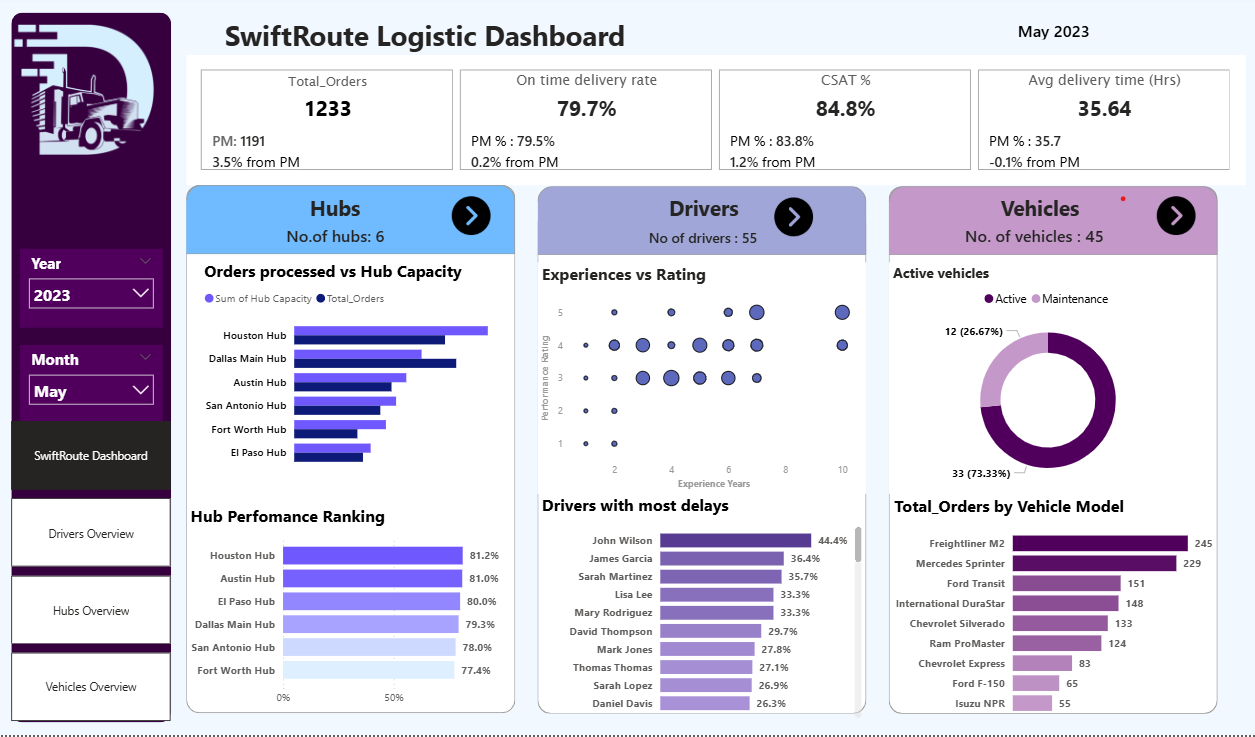

Layout of this report page (visuals, bound fields, positions):
{"tool":"powerbi","page":{"name":"SwiftRoute Dashboard","canvas":[1450,850],"ordinal":0},"visuals":[{"type":"shape","box":[13,14.4,184.8,820],"z":0},{"type":"textbox","box":[215.1,14.4,551.5,60.6],"z":1000},{"type":"slicer","fields":{"Values":["Date table.Year"]},"box":[23.1,287.3,164.6,90.9],"z":2000},{"type":"slicer","fields":{"Values":["Date table.Month"]},"box":[23.1,398.4,164.6,88.1],"z":3000},{"type":"cardVisual","fields":{"Data":["Orders (1).Total_Orders","Orders (1).On time delivery rate","Orders (1).CSAT %","Orders (1).Avg delivery time (Hrs)"]},"box":[215.1,63.5,1224.2,150.1],"z":4000},{"type":"shape","box":[215.1,213.7,380,610],"z":5000},{"type":"shape","box":[215.1,213.7,379.7,80],"z":6000},{"type":"textbox","box":[282.9,219.4,207.9,44.8],"z":7000},{"type":"cardVisual","fields":{"Data":["Hubs.No Of Hubs"]},"box":[257,242.5,261.3,57.7],"z":8000},{"type":"clusteredBarChart","title":"Orders processed vs Hub Capacity","fields":{"Category":["Hubs.HubName"],"Y":["Sum(Hubs.Hub Capacity)","Orders (1).Total_Orders"]},"box":[231,300.3,349.4,249.7],"z":9000},{"type":"barChart","title":"Hub Perfomance Ranking","fields":{"Category":["Hubs.HubName"],"Y":["Orders (1).On time delivery rate"]},"box":[215.1,583.2,379.7,241.1],"z":10000},{"type":"shape","box":[1026.4,215.1,379.7,609.2],"z":11000},{"type":"shape","box":[620.8,242.5,379.7,581.8],"z":12000},{"type":"shape","box":[1026.4,215.1,379.7,79.4],"z":13000},{"type":"shape","box":[620.8,215.1,379.7,79.4],"z":14000},{"type":"cardVisual","fields":{"Data":["Vehicles.No. of Vehicles"]},"box":[1085.6,242.5,261.3,57.7],"z":15000},{"type":"textbox","box":[708.8,219.4,207.9,44.8],"z":16000},{"type":"textbox","box":[1097.2,219.4,207.9,44.8],"z":17000},{"type":"cardVisual","fields":{"Data":["Drivers.No of drivers"]},"box":[720.4,242.5,183.3,60.6],"z":18000},{"type":"scatterChart","title":"Experiences vs Rating","fields":{"X":["Drivers.Experience Years"],"Y":["Drivers.Performance Rating"],"Size":["Sum(Drivers.Experience Years)1"]},"box":[620.8,303.2,379.7,267.1],"z":19000},{"type":"barChart","title":"Drivers with most delays","fields":{"Category":["Drivers.DriverName"],"Y":["Orders (1).Delayed delivery rate"]},"box":[620.8,570.2,379.7,264.2],"z":20000},{"type":"donutChart","title":"Active vehicles","fields":{"Category":["Vehicles.Vehicle Status"],"Y":["CountNonNull(Vehicles.Vehicle ID)"]},"box":[1026.4,303.2,368.1,267.1],"z":21000},{"type":"barChart","fields":{"Category":["Vehicles.Vehicle Model"],"Y":["Orders (1).Total_Orders"]},"box":[1027.9,571.7,379.7,264.2],"z":22000},{"type":"image","box":[0,0,197.8,219.4],"z":23000},{"type":"cardVisual","fields":{"Data":["Orders (1).Year Month Title"]},"box":[1026.4,5.8,381.1,57.7],"z":24000},{"type":"image","box":[880.6,228.1,72.2,44.8],"z":25000},{"type":"image","box":[508.2,226.6,72.2,44.8],"z":26000},{"type":"image","box":[1322.4,226.6,72.2,44.8],"z":27000},{"type":"pageNavigator","box":[13,486.5,184.8,347.9],"z":28000}]}

Visuals, with their boxes on the page's 1450x850 design canvas (x1, y1, x2, y2). These are canvas units, not pixel positions in the 1255x737 screenshot, which may show the page scaled, cropped or inside an application window:
shape: bbox(13, 14, 198, 834)
textbox: bbox(215, 14, 767, 75)
slicer - Date table.Year: bbox(23, 287, 188, 378)
slicer - Date table.Month: bbox(23, 398, 188, 486)
cardVisual - Orders (1).Total_Orders x Orders (1).On time delivery rate: bbox(215, 64, 1439, 214)
shape: bbox(215, 214, 595, 824)
shape: bbox(215, 214, 595, 294)
textbox: bbox(283, 219, 491, 264)
cardVisual - Hubs.No Of Hubs: bbox(257, 242, 518, 300)
"Orders processed vs Hub Capacity" clusteredBarChart: bbox(231, 300, 580, 550)
"Hub Perfomance Ranking" barChart: bbox(215, 583, 595, 824)
shape: bbox(1026, 215, 1406, 824)
shape: bbox(621, 242, 1000, 824)
shape: bbox(1026, 215, 1406, 294)
shape: bbox(621, 215, 1000, 294)
cardVisual - Vehicles.No. of Vehicles: bbox(1086, 242, 1347, 300)
textbox: bbox(709, 219, 917, 264)
textbox: bbox(1097, 219, 1305, 264)
cardVisual - Drivers.No of drivers: bbox(720, 242, 904, 303)
"Experiences vs Rating" scatterChart: bbox(621, 303, 1000, 570)
"Drivers with most delays" barChart: bbox(621, 570, 1000, 834)
"Active vehicles" donutChart: bbox(1026, 303, 1394, 570)
barChart - Vehicles.Vehicle Model x Orders (1).Total_Orders: bbox(1028, 572, 1408, 836)
image: bbox(0, 0, 198, 219)
cardVisual - Orders (1).Year Month Title: bbox(1026, 6, 1408, 64)
image: bbox(881, 228, 953, 273)
image: bbox(508, 227, 580, 271)
image: bbox(1322, 227, 1395, 271)
pageNavigator: bbox(13, 486, 198, 834)
